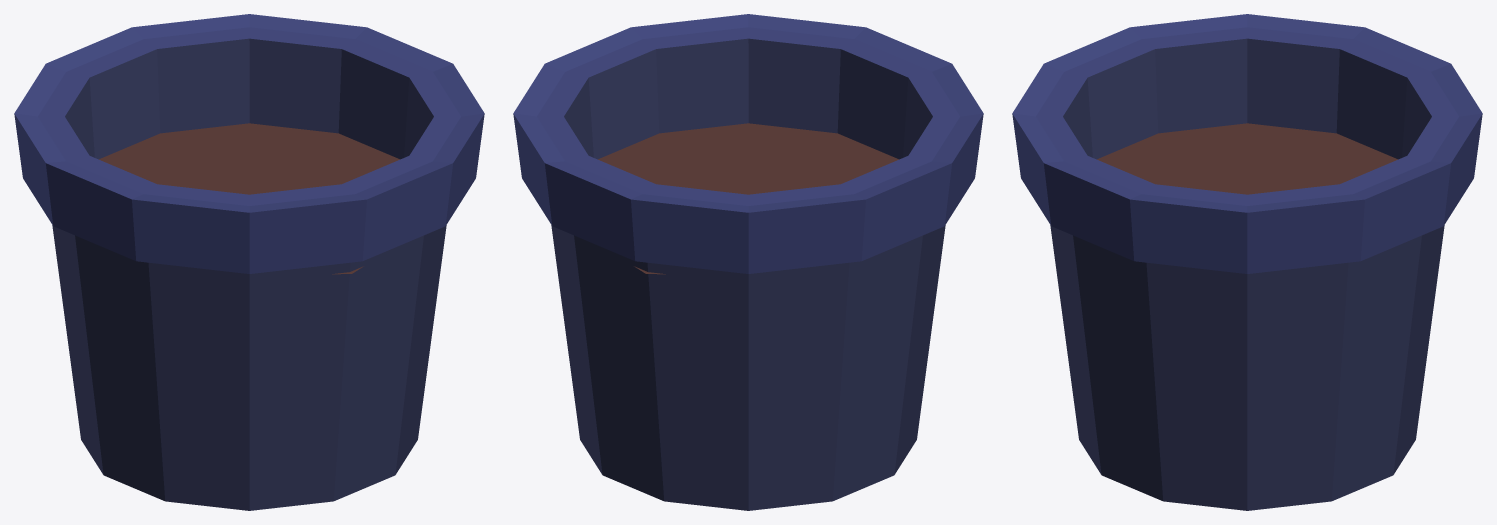
File: ARI_pot.fbx
The picture shows the model from 3 angles, left to right: view 1: azimuth 30°, elevation 25°; view 2: azimuth 150°, elevation 25°; view 3: azimuth 270°, elevation 25°; orthographic projection.
Parts seen in each view (by area): view 1: Pot; view 2: Pot; view 3: Pot.
Part boxes in pixels (x1,y1,x2,y2): Pot: [14, 14, 484, 510]; Pot: [513, 14, 983, 510]; Pot: [1012, 14, 1482, 510].
Bounding box in the file's own units: 222 × 170 × 222.
